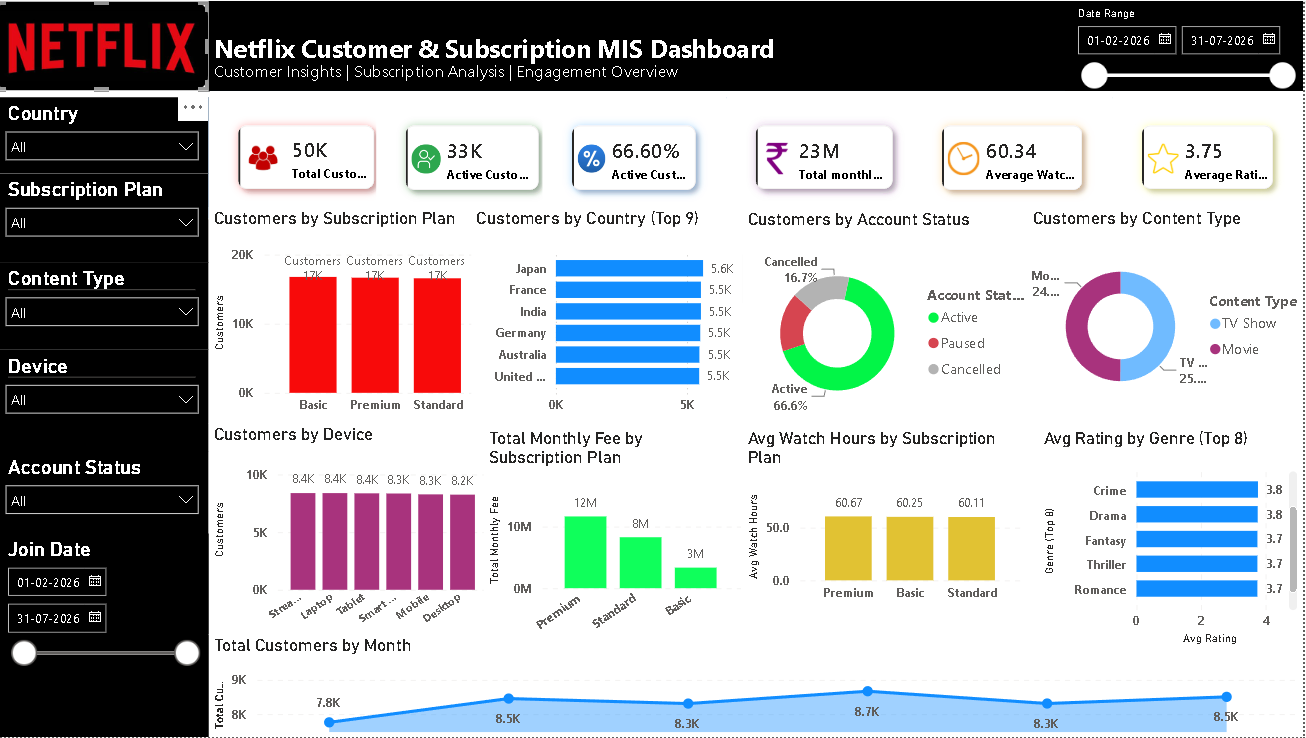

Layout of this report page (visuals, bound fields, positions):
{"tool":"powerbi","page":{"name":"Page 5","canvas":[1280,720],"ordinal":4},"visuals":[{"type":"slicer","fields":{"Values":["Dataset.Country"]},"box":[0,94.2,209.1,74.6],"z":0},{"type":"slicer","fields":{"Values":["Dataset.Subscription_Plan"]},"box":[0,168.8,209.1,86.8],"z":1000},{"type":"slicer","fields":{"Values":["Dataset.Content_Type"]},"box":[0,255.6,209.1,85.6],"z":2000},{"type":"slicer","fields":{"Values":["Dataset.Device"]},"box":[0,341.2,209.1,99],"z":3000},{"type":"slicer","fields":{"Values":["Dataset.Account_Status"]},"box":[0,440.2,209.1,96.6],"z":4000},{"type":"slicer","fields":{"Values":["Dataset.Join_Date"]},"box":[0,520.9,209.1,199.3],"z":5000},{"type":"shape","box":[0,0,1280.3,88],"z":6000},{"type":"image","box":[0,0,209.1,88],"z":7000},{"type":"textbox","box":[209.1,0,1071.2,88],"z":8000},{"type":"shape","box":[209.1,94.2,1071.2,118.6],"z":9000},{"type":"cardVisual","fields":{"Data":["Dataset.Total Customers"]},"box":[209.2,93.1,191.5,120.8],"z":10000},{"type":"cardVisual","fields":{"Data":["Dataset.Active Customers"]},"box":[373,92.9,188.3,121.1],"z":11000},{"type":"cardVisual","fields":{"Data":["Dataset.Total monthly fees"]},"box":[715.4,93.1,192.3,120.8],"z":12000},{"type":"cardVisual","fields":{"Data":["Dataset.Active Customers %"]},"box":[535.6,92.9,179.8,121.1],"z":13000},{"type":"cardVisual","fields":{"Data":["Dataset.Average Watch Hours"]},"box":[897.6,92.9,195.7,121.1],"z":14000},{"type":"cardVisual","fields":{"Data":["Dataset.Average Rating"]},"box":[1093.1,93.1,186.9,120.8],"z":15000},{"type":"slicer","fields":{"Values":["DateTable.Date"]},"box":[1046.7,0,233.6,88],"z":16000},{"type":"clusteredColumnChart","fields":{"Category":["Dataset.Subscription_Plan"],"Y":["CountNonNull(Dataset.Customers_ID)"]},"box":[209.1,201.8,278.8,211.6],"z":17000},{"type":"clusteredColumnChart","fields":{"Category":["Dataset.Device"],"Y":["CountNonNull(Dataset.Customers_ID)"]},"box":[209.1,413.3,278.8,206.7],"z":18000},{"type":"lineChart","fields":{"Category":["DateTable.Month"],"Y":["CountNonNull(Dataset.Customers_ID)"]},"box":[209.1,620,1071.2,100.3],"z":19000},{"type":"clusteredBarChart","fields":{"Y":["CountNonNull(Dataset.Customers_ID)"],"Category":["Dataset.Country"]},"box":[465.9,201.8,278.8,211.6],"z":20000},{"type":"clusteredColumnChart","fields":{"Category":["Dataset.Subscription_Plan"],"Y":["Sum(Dataset.Monthly_Fees)"]},"box":[478.1,416.4,256.8,216.4],"z":21000},{"type":"donutChart","fields":{"Category":["Dataset.Account_Status"],"Y":["CountNonNull(Dataset.Customers_ID)"]},"box":[731.3,203,278.8,214],"z":22000},{"type":"donutChart","fields":{"Category":["Dataset.Content_Type"],"Y":["CountNonNull(Dataset.Customers_ID)"]},"box":[1010.1,201.8,270.2,203],"z":23000},{"type":"columnChart","fields":{"Category":["Dataset.Subscription_Plan"],"Y":["Avg(Dataset.Watch_Hours)"]},"box":[731.5,416.4,278.8,179.8],"z":24000},{"type":"clusteredBarChart","fields":{"Category":["Dataset.Genre"],"Y":["Avg(Dataset.Avg_Rating)"]},"box":[1020.5,416.4,258,217.7],"z":25000}]}

Visuals, with their boxes in screenshot pixels (x1, y1, x2, y2), scaled from the page's 1280x720 canvas onto the 1306x738 screenshot:
slicer - Dataset.Country: <region>0, 97, 213, 173</region>
slicer - Dataset.Subscription_Plan: <region>0, 173, 213, 262</region>
slicer - Dataset.Content_Type: <region>0, 262, 213, 350</region>
slicer - Dataset.Device: <region>0, 350, 213, 451</region>
slicer - Dataset.Account_Status: <region>0, 451, 213, 550</region>
slicer - Dataset.Join_Date: <region>0, 534, 213, 737</region>
shape: <region>0, 0, 1305, 90</region>
image: <region>0, 0, 213, 90</region>
textbox: <region>213, 0, 1305, 90</region>
shape: <region>213, 97, 1305, 218</region>
cardVisual - Dataset.Total Customers: <region>213, 95, 409, 219</region>
cardVisual - Dataset.Active Customers: <region>381, 95, 573, 219</region>
cardVisual - Dataset.Total monthly fees: <region>730, 95, 926, 219</region>
cardVisual - Dataset.Active Customers %: <region>546, 95, 730, 219</region>
cardVisual - Dataset.Average Watch Hours: <region>916, 95, 1116, 219</region>
cardVisual - Dataset.Average Rating: <region>1115, 95, 1305, 219</region>
slicer - DateTable.Date: <region>1068, 0, 1305, 90</region>
clusteredColumnChart - Dataset.Subscription_Plan x CountNonNull(Dataset.Customers_ID): <region>213, 207, 498, 424</region>
clusteredColumnChart - Dataset.Device x CountNonNull(Dataset.Customers_ID): <region>213, 424, 498, 636</region>
lineChart - DateTable.Month x CountNonNull(Dataset.Customers_ID): <region>213, 636, 1305, 737</region>
clusteredBarChart - CountNonNull(Dataset.Customers_ID) x Dataset.Country: <region>475, 207, 760, 424</region>
clusteredColumnChart - Dataset.Subscription_Plan x Sum(Dataset.Monthly_Fees): <region>488, 427, 750, 649</region>
donutChart - Dataset.Account_Status x CountNonNull(Dataset.Customers_ID): <region>746, 208, 1031, 427</region>
donutChart - Dataset.Content_Type x CountNonNull(Dataset.Customers_ID): <region>1031, 207, 1305, 415</region>
columnChart - Dataset.Subscription_Plan x Avg(Dataset.Watch_Hours): <region>746, 427, 1031, 611</region>
clusteredBarChart - Dataset.Genre x Avg(Dataset.Avg_Rating): <region>1041, 427, 1304, 650</region>
